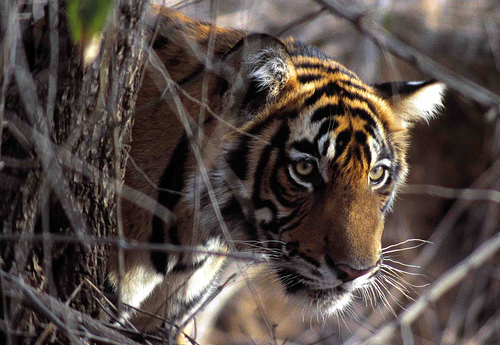Tigre: (205, 24, 456, 331)
